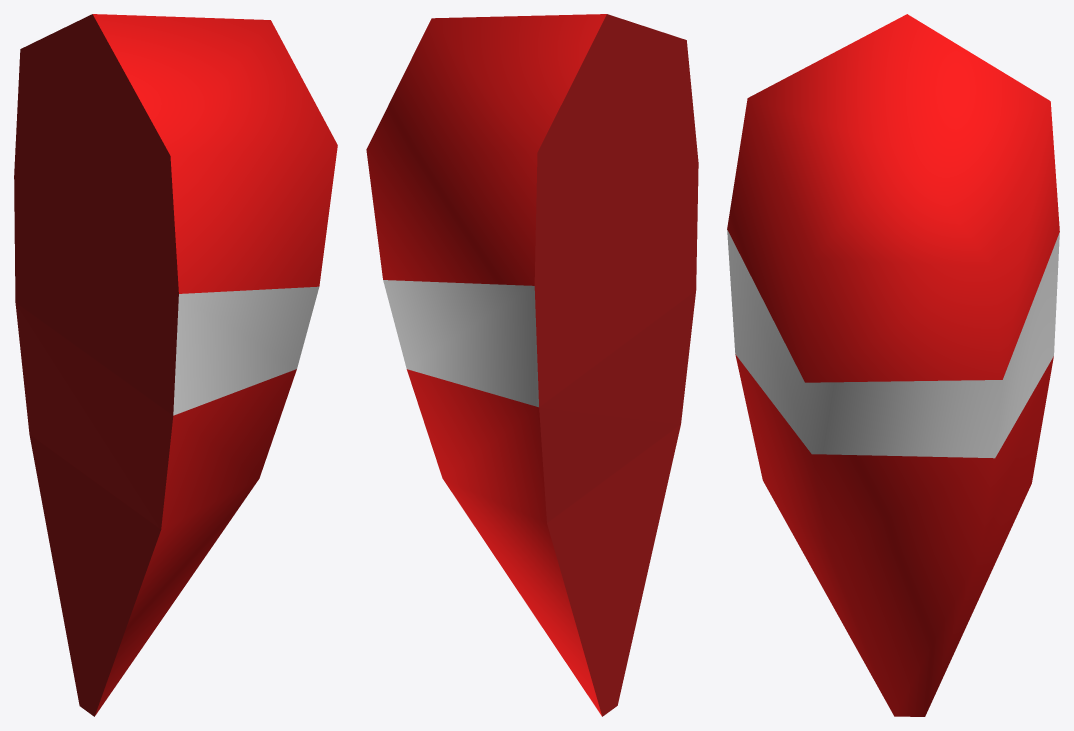
File: LimbShoeRight.obj
3 views of the same model, side by side, from view 1: azimuth 30°, elevation 25°; view 2: azimuth 150°, elevation 25°; view 3: azimuth 270°, elevation 25° (orthographic).
Size of the model in its own units: 1.3 by 4.25 by 1.82.
Materials: 3 (3 with a texture image).
